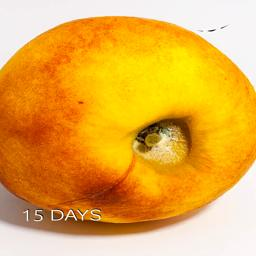Peach Semirotten: (0, 13, 256, 227)
